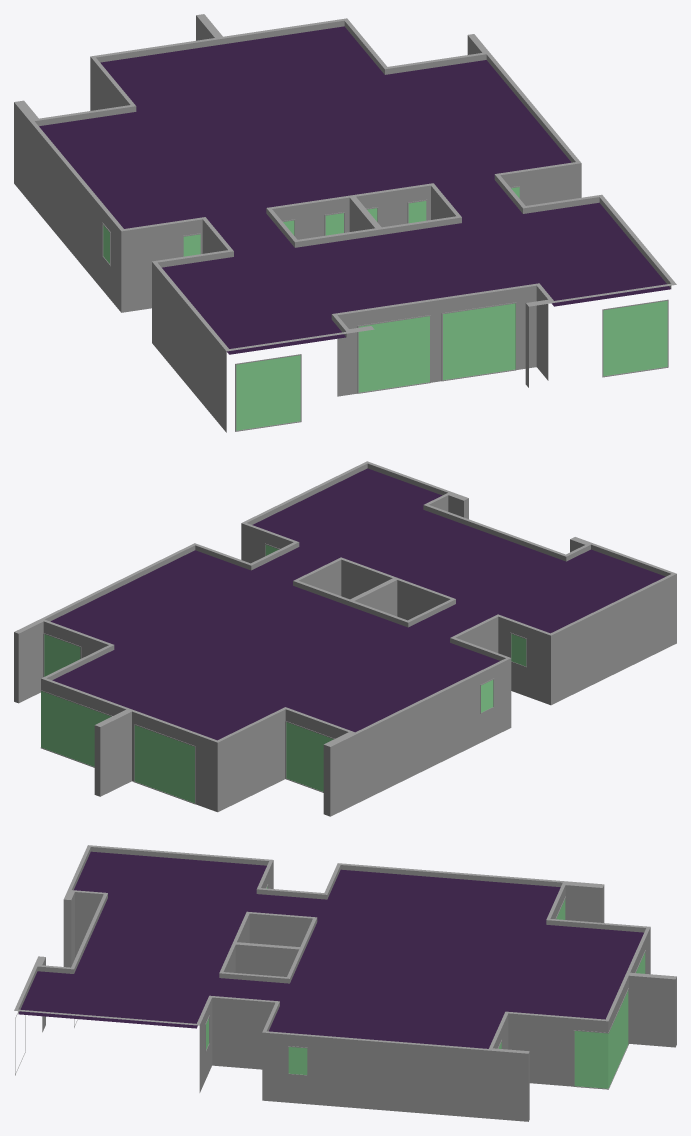
The picture shows the model from 3 angles, top to bottom: view 1: azimuth 30°, elevation 25°; view 2: azimuth 150°, elevation 25°; view 3: azimuth 270°, elevation 25°; orthographic projection. The views are drawn at different scales.
Parts seen in each view (by area): view 1: 3B_SV.002, 3B_SV.001, 3B_SV.003, 3B_SV.005, 3B_SV.007; view 2: 3B_SV.002, 3B_SV.001, 3B_SV.005, 3B_SV.003, 3B_SV.007, 3B_SV.006; view 3: 3B_SV.002, 3B_SV.007, 3B_SV.001, 3B_SV.003.
Part boxes in pixels (<box>): 3B_SV.002: <box>39,26,670,354</box>; 3B_SV.001: <box>14,14,676,431</box>; 3B_SV.003: <box>103,187,667,430</box>; 3B_SV.005: <box>14,102,226,432</box>; 3B_SV.007: <box>90,15,214,110</box>; 3B_SV.002: <box>50,468,665,740</box>; 3B_SV.001: <box>14,461,676,816</box>; 3B_SV.005: <box>330,574,676,816</box>; 3B_SV.003: <box>41,545,526,803</box>; 3B_SV.007: <box>94,709,285,811</box>; 3B_SV.006: <box>456,617,498,652</box>; 3B_SV.002: <box>18,851,643,1048</box>; 3B_SV.007: <box>262,975,676,1121</box>; 3B_SV.001: <box>14,845,676,1121</box>; 3B_SV.003: <box>206,887,645,1088</box>.
Bounding box in the file's own units: 45.17 × 6.88 × 60.66.
